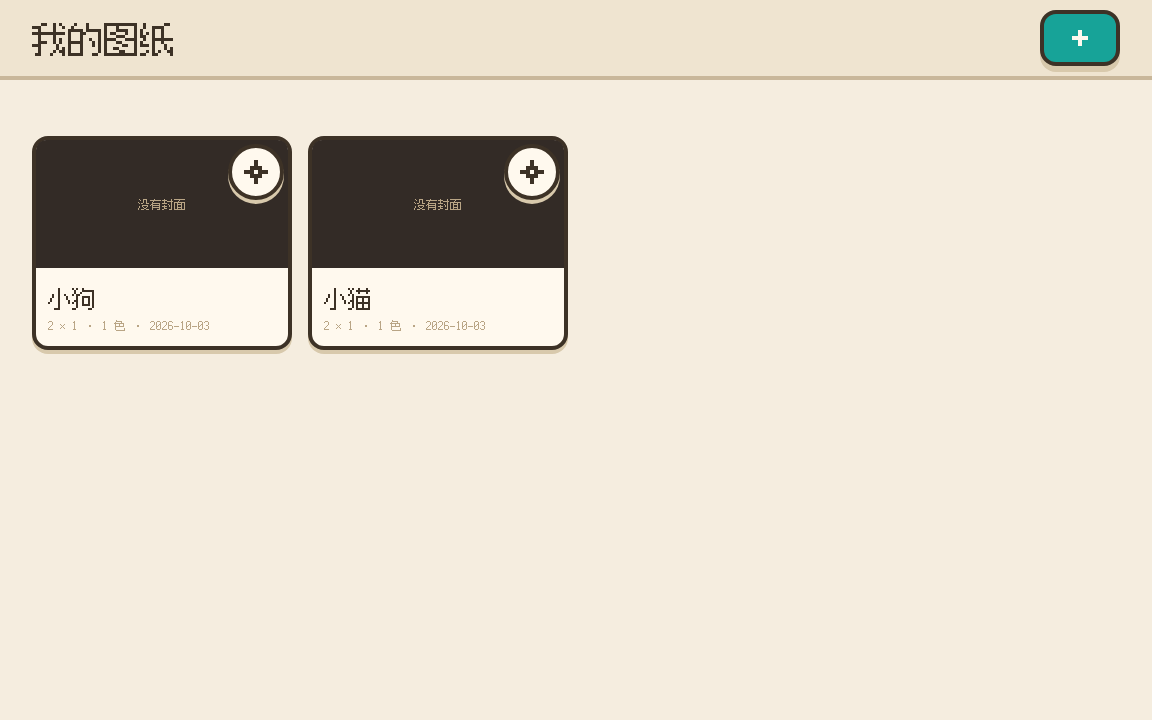
Test: LibraryPage › 看施工图 / 改名 / 删除都收进 gear：先点 card-menu 才出现，testid 不变
Click the button with test id "card-menu".
click(256, 172)  # box [228,144,284,200]
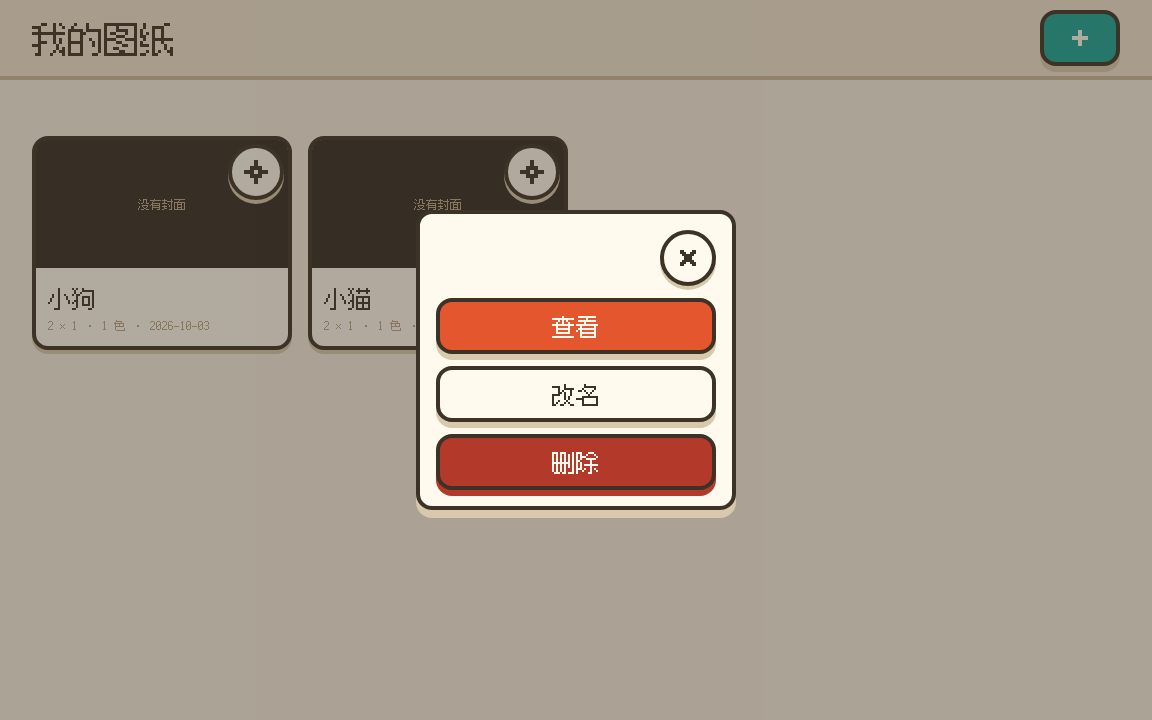
expect the button with test id "view-sheet" is shown: met, box [436,298,716,354]
expect the button with test id "rename-project" is shown: met, box [436,366,716,422]
expect the button with test id "delete-project" is shown: met, box [436,434,716,490]
